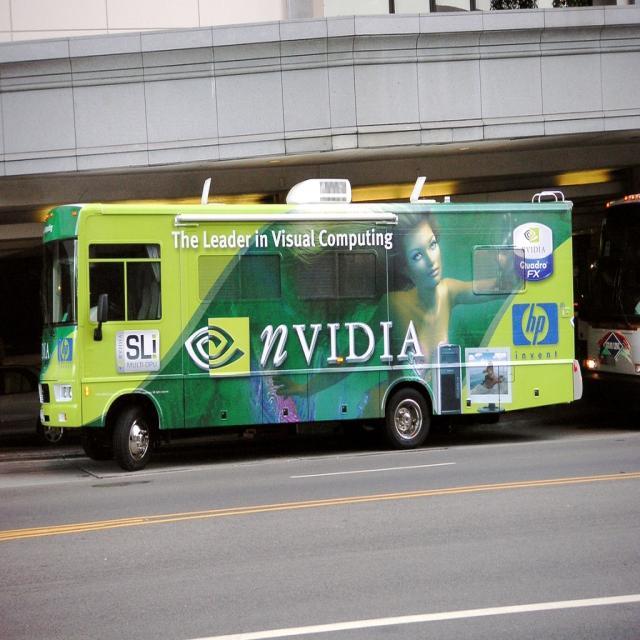nvidia: (185, 318, 252, 379)
